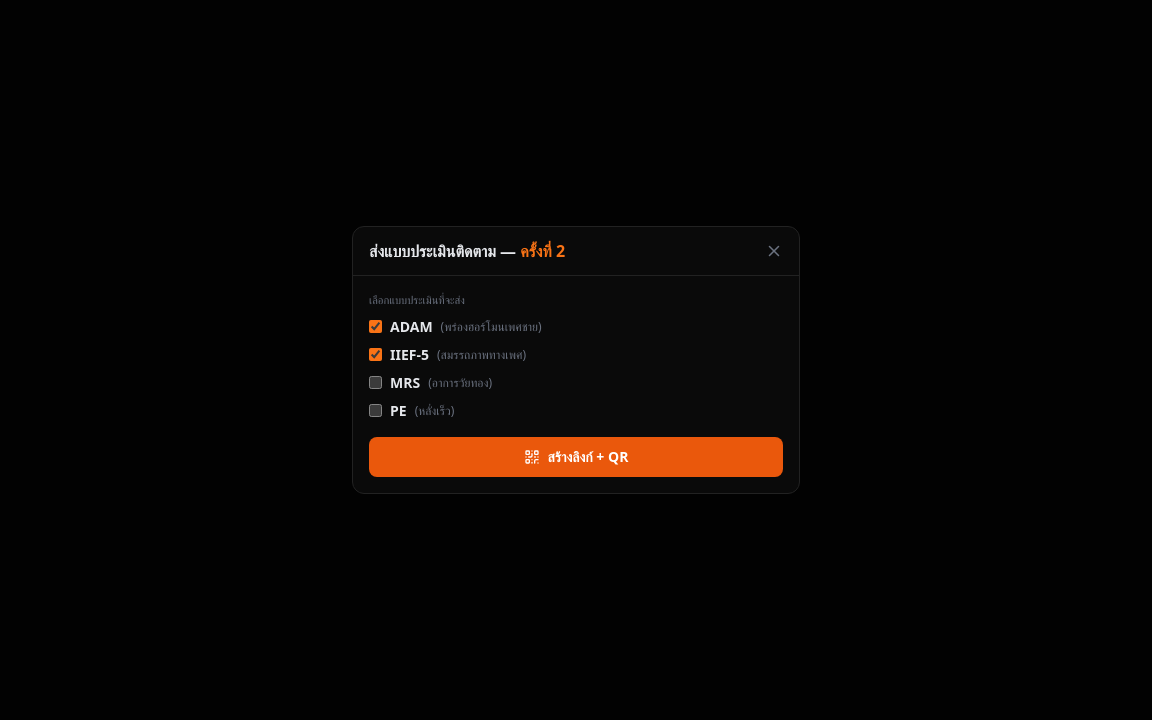
Test: EDFollowupModal — R3 supersede + R1 confirmInfo › does not create a link when no type is picked (validation)
The width and height of the screenshot is (1152, 720).
Note: deselect the defaults (intakeTypes empty → defaults to adam,iief)
Click the checkbox with test id "ed-type-adam" at point(376, 327), box [369,320,382,333]
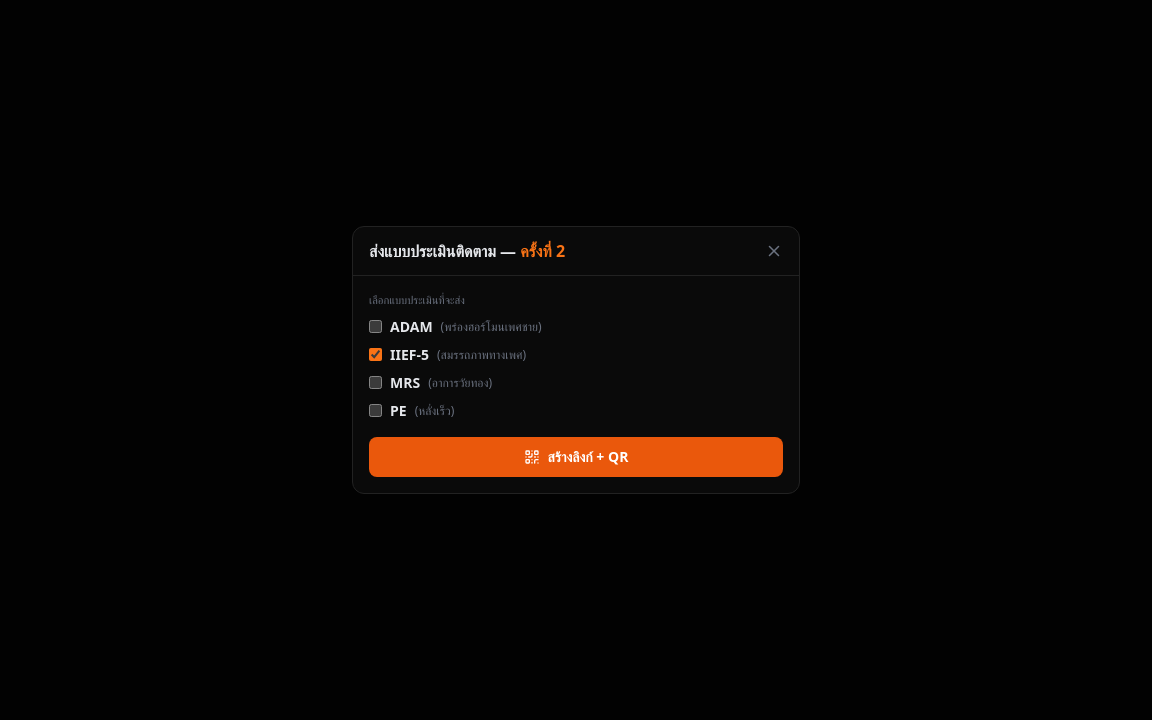
Click the checkbox with test id "ed-type-iief" at point(376, 355), box [369,348,382,361]
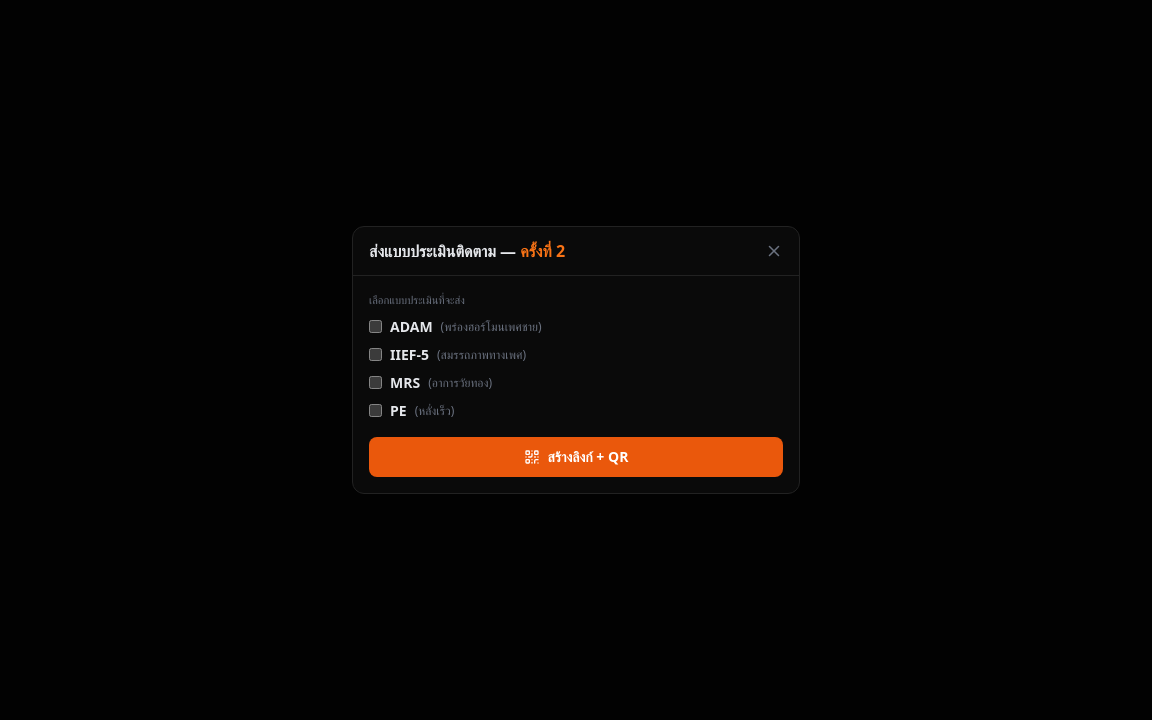
Click the button with test id "ed-create-link-btn" at point(576, 457), box [369,437,783,477]
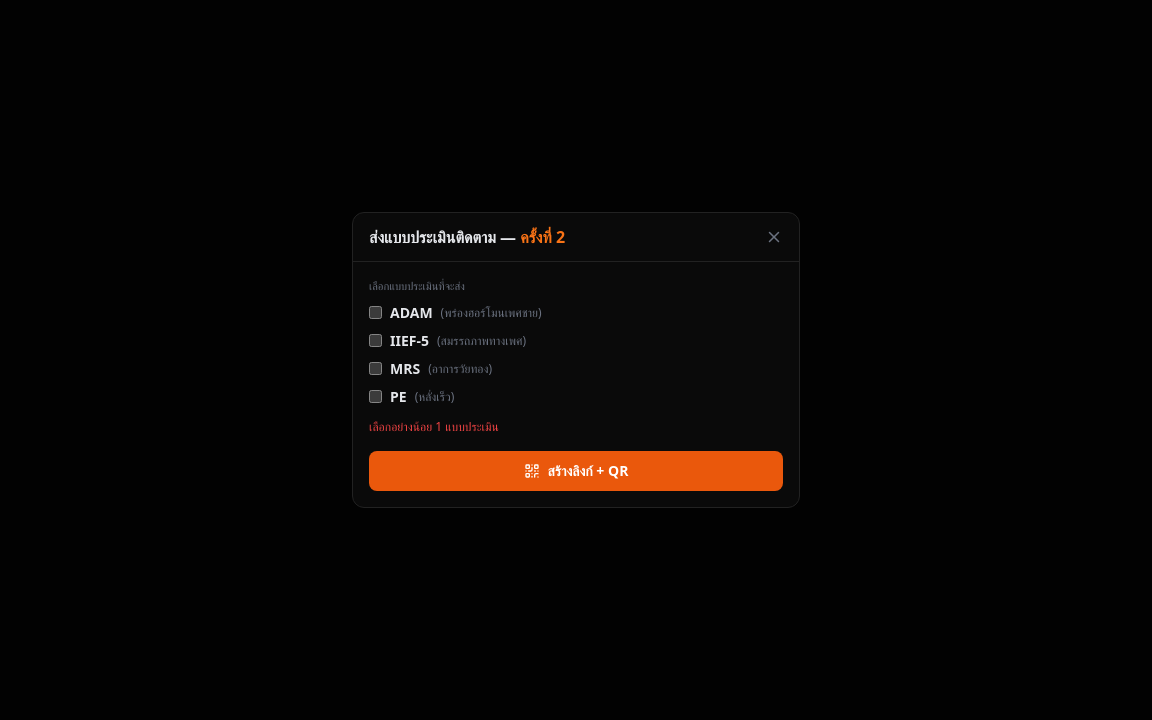
Check: the text "เลือกอย่างน้อย 1 แบบประเมิน" is shown, box [369,418,499,435]
